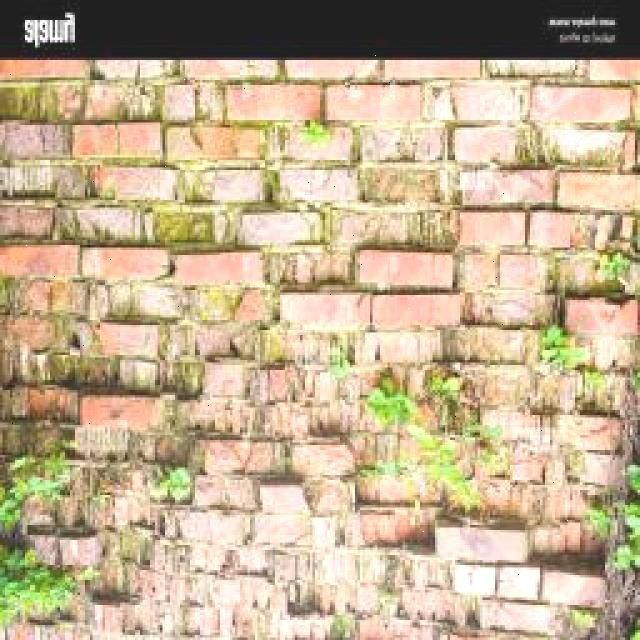crack: (1, 59, 635, 640), (226, 77, 466, 309), (3, 261, 280, 388), (202, 438, 324, 481), (325, 84, 430, 124), (4, 312, 92, 359), (225, 83, 327, 123), (537, 126, 632, 168), (166, 125, 268, 164), (354, 122, 451, 163), (534, 86, 633, 126), (103, 281, 195, 324), (150, 203, 241, 245), (63, 206, 156, 247), (0, 80, 86, 122), (178, 283, 266, 324), (85, 166, 180, 203), (74, 121, 164, 160), (173, 251, 270, 287), (557, 171, 639, 213), (449, 83, 530, 124), (452, 126, 534, 166), (274, 167, 360, 205), (79, 247, 171, 282), (187, 168, 273, 205), (173, 509, 255, 547), (2, 163, 85, 200), (3, 384, 81, 422), (187, 472, 263, 510), (1, 244, 77, 282), (0, 122, 72, 161), (121, 430, 196, 467), (563, 297, 637, 333), (249, 508, 316, 546), (92, 601, 160, 636), (0, 204, 64, 240), (183, 538, 247, 573), (180, 59, 277, 80), (82, 83, 133, 122), (161, 82, 208, 124), (254, 482, 312, 516), (228, 543, 284, 576)
dampens: (628, 16, 639, 17)
dampness: (4, 188, 623, 255), (100, 556, 343, 638), (5, 58, 636, 87)
vegetation: (4, 449, 105, 628), (45, 351, 138, 388), (4, 343, 82, 387), (94, 550, 154, 598), (152, 467, 192, 503), (595, 250, 632, 288), (299, 121, 332, 147)
